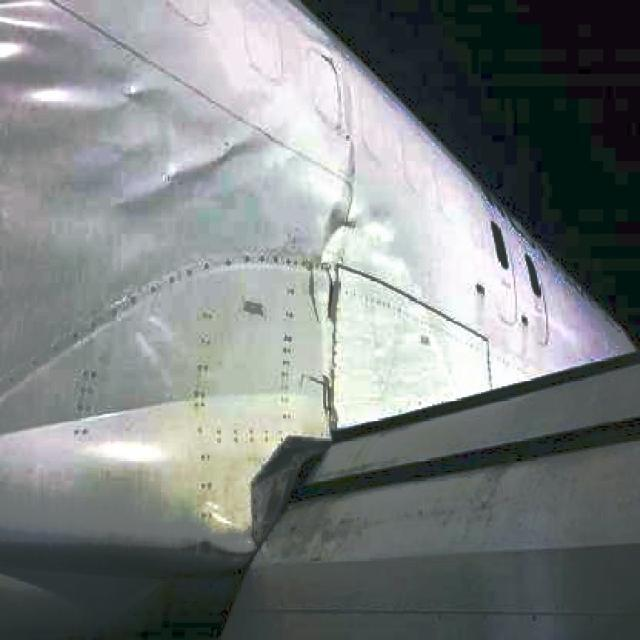dent: (138, 90, 274, 206), (321, 192, 397, 267), (3, 3, 65, 69), (132, 307, 185, 372), (97, 426, 168, 472), (29, 79, 120, 112)
